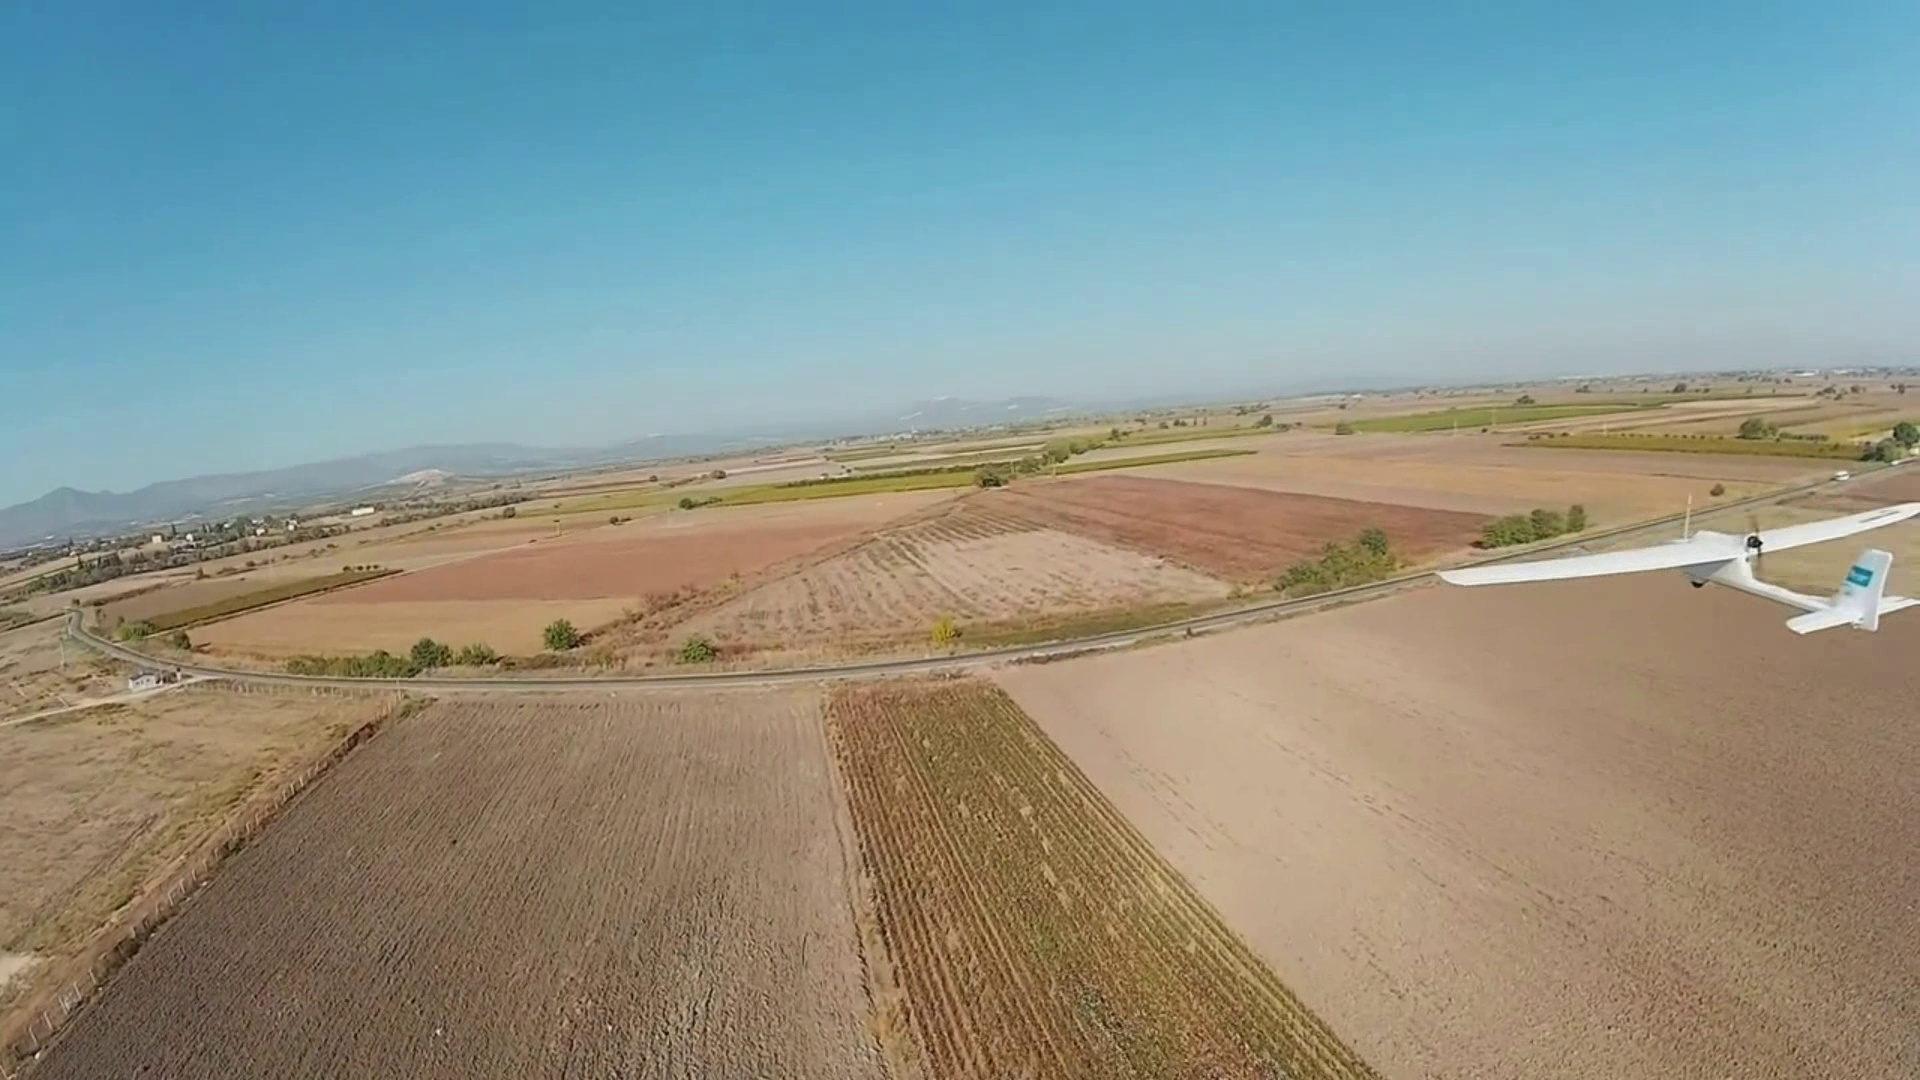airplane: (1437, 487, 1917, 636)
